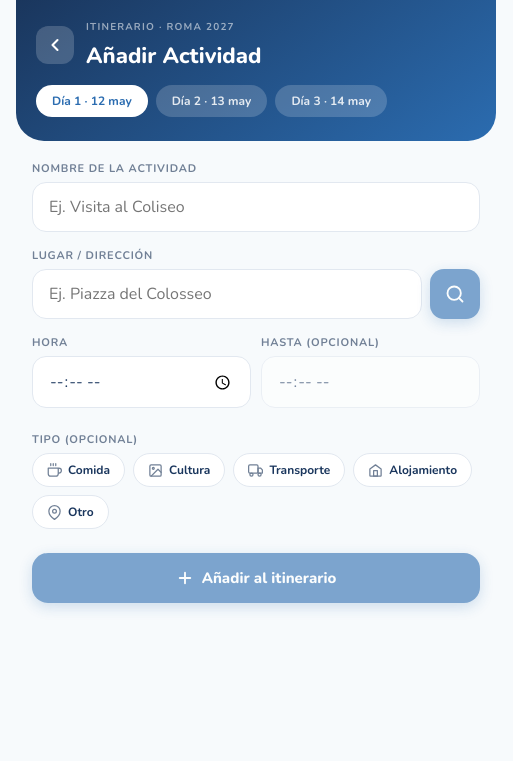
Test: AnadirActividad · buscador de direcciones › lista los resultados de la búsqueda
In the field labelled "Lugar / Dirección": (227, 294) [32, 269, 422, 319], type "Roma"
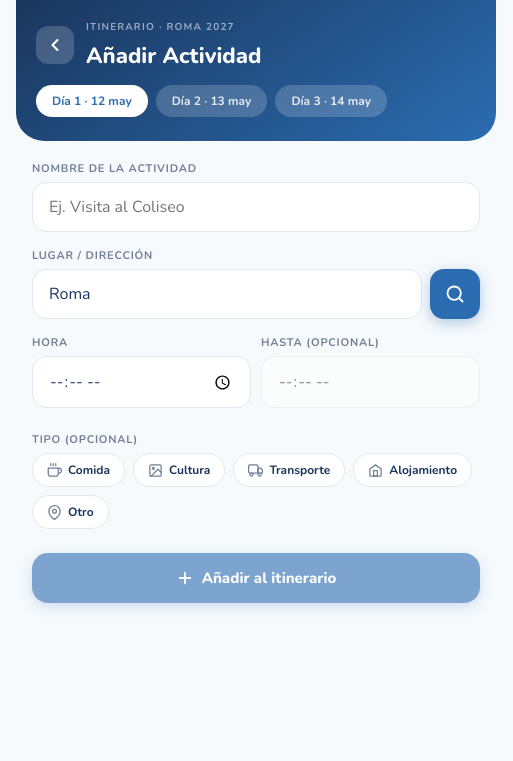
Click the button named "Buscar dirección": click(455, 294) [430, 269, 480, 319]
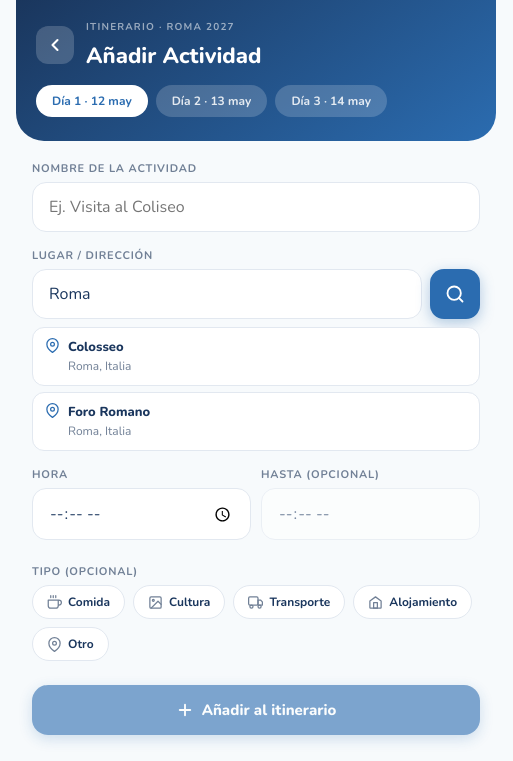
Check: the number of list items is 2, box [32, 327, 480, 386]; [32, 392, 480, 451]
Check: the text "Colosseo" is shown, box [68, 338, 131, 356]
Check: the 1st text "Roma, Italia" is shown, box [68, 358, 131, 375]
